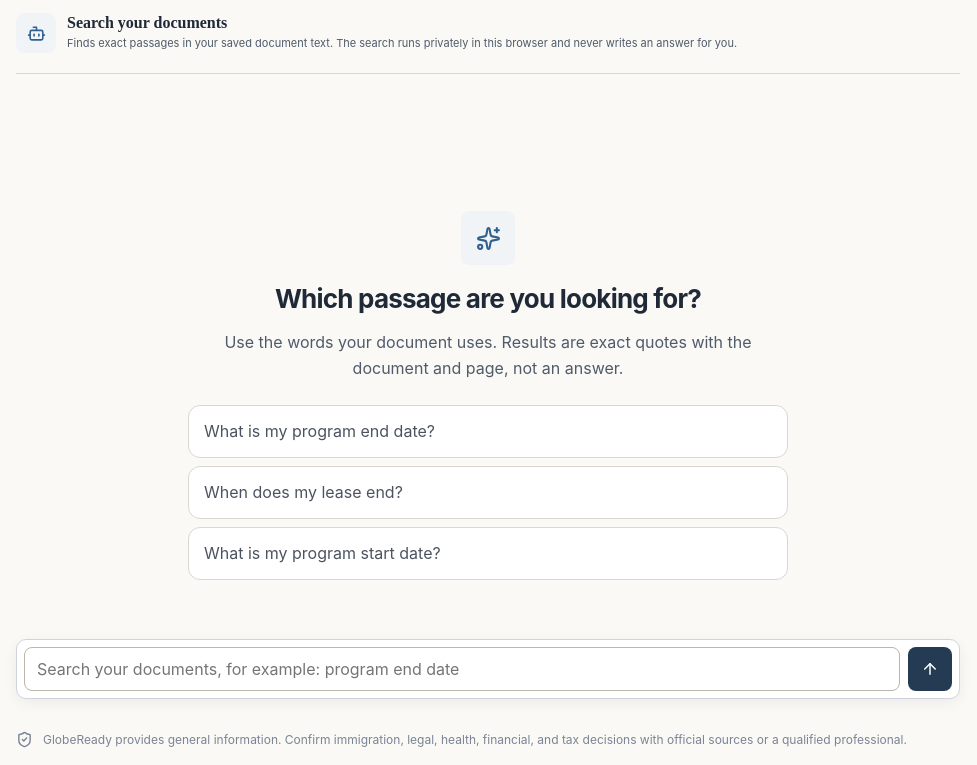
Test: document-grounded assistant › uses private browser retrieval in zero-cost mode and hides cloud history
The image size is (977, 765).
Expected: the text "runs privately in this browser" is shown, x1=67 y1=36 x2=737 y2=50
Type "When is my travel signature valid?" into the field named "Ask GlobeReady" at x=462, y=669, box x1=24 y1=647 x2=900 y2=691
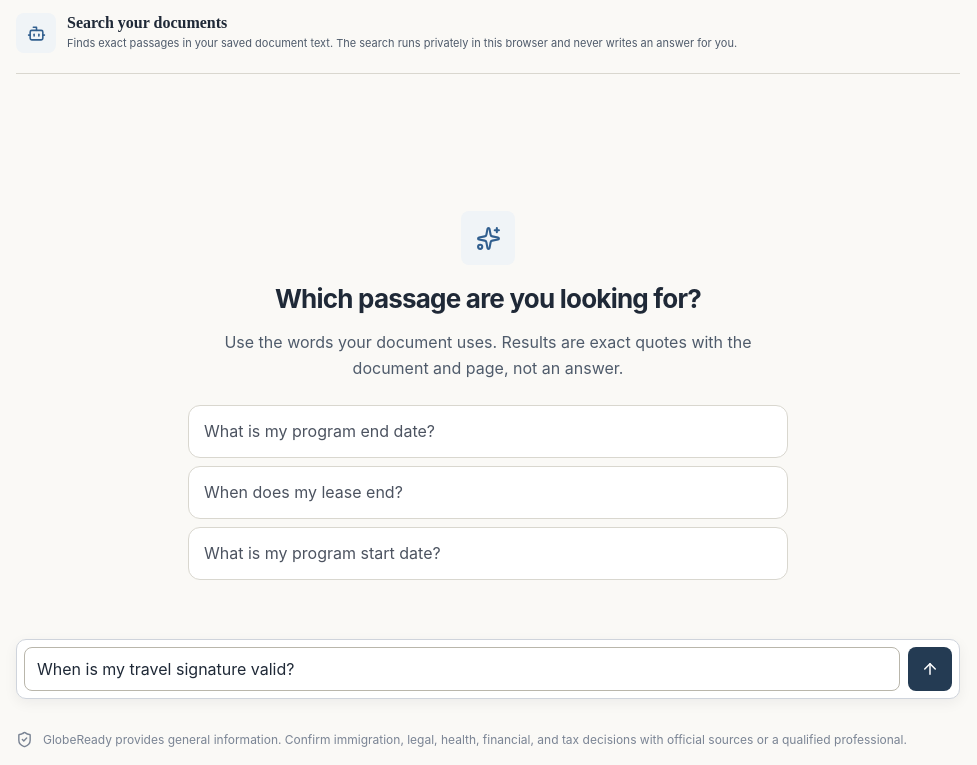
Click the button named "Send question" at x=930, y=669, box x1=908 y1=647 x2=952 y2=691
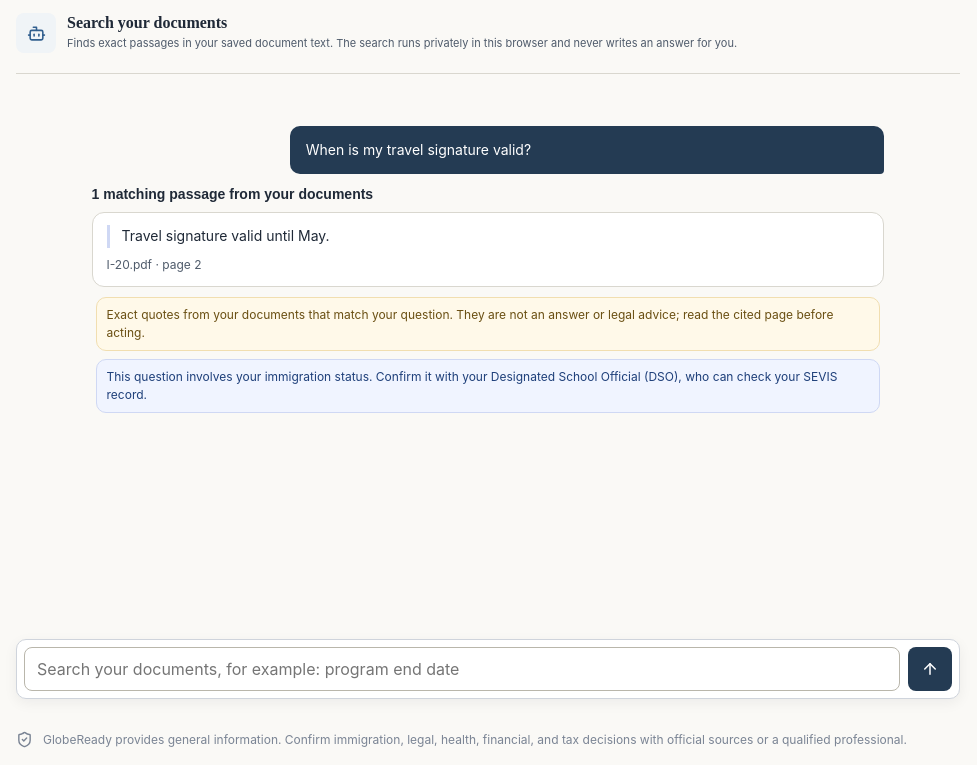
Result: the text "I-20.pdf · page 2" is shown at x1=106 y1=257 x2=202 y2=272
Result: the heading "1 matching passage from your documents" is shown at x1=92 y1=186 x2=373 y2=202
Result: the text "not an answer or legal advice" is shown at x1=106 y1=307 x2=833 y2=340
